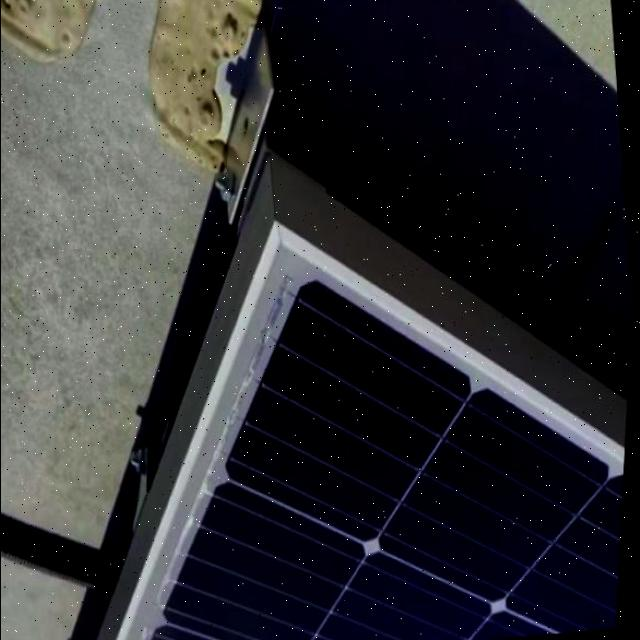Normal Solar Panel: (44, 176, 640, 640)
